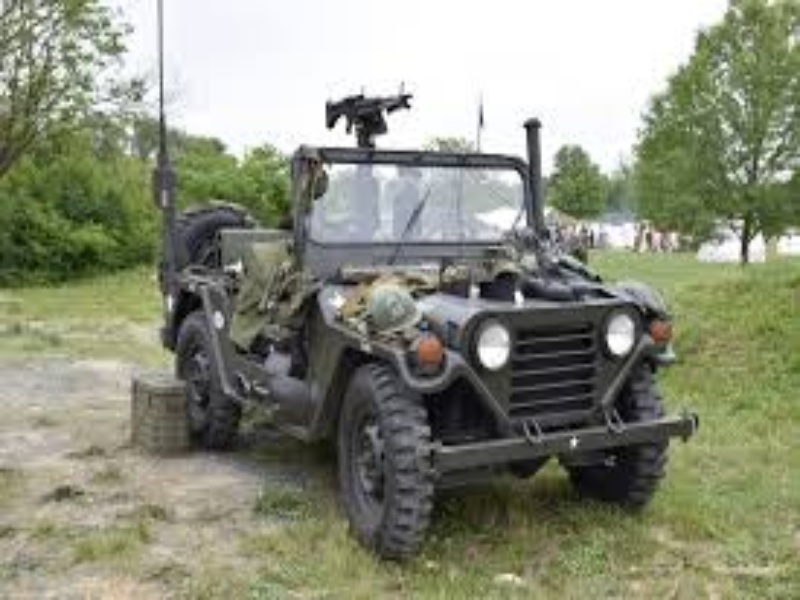jeep: (152, 79, 703, 569)
